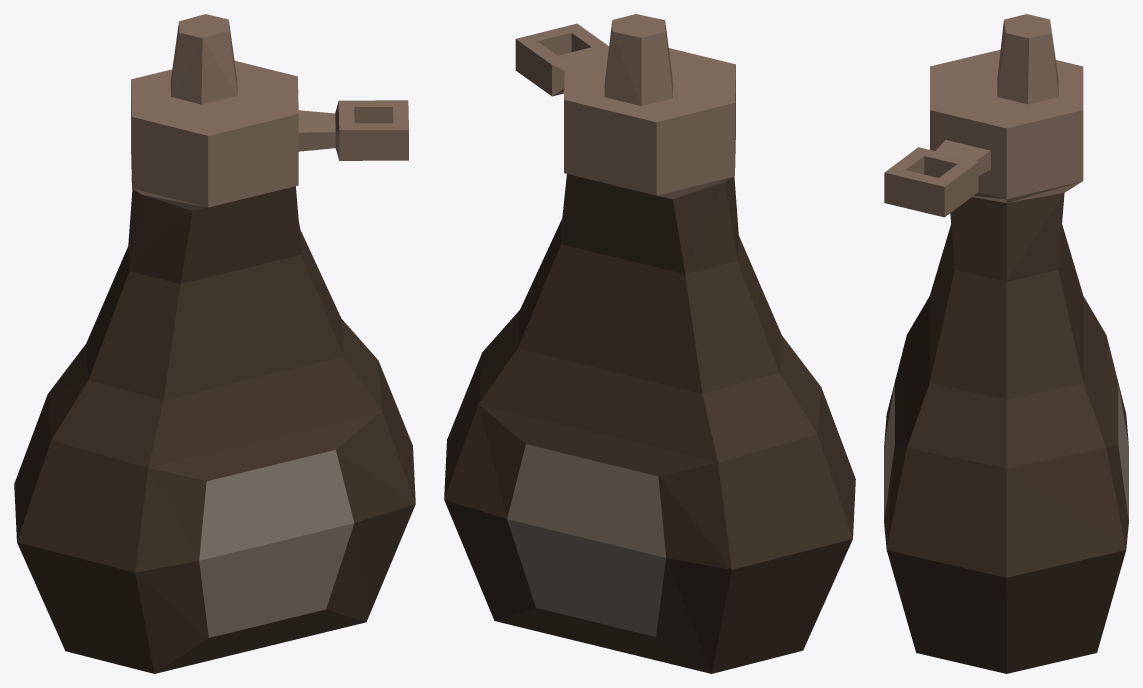
The model's file is SM_Item_Flask_01.glb.
3 renders of one model, left to right at view 1: azimuth 30°, elevation 25°; view 2: azimuth 150°, elevation 25°; view 3: azimuth 270°, elevation 25°, orthographic. The views are drawn at different scales.
Visible parts, largest first — view 1: SM_Item_Flask_01_00; view 2: SM_Item_Flask_01_00; view 3: SM_Item_Flask_01_00.
Part boxes in pixels (x1,y1,x2,y2): SM_Item_Flask_01_00: (14, 14, 415, 673); SM_Item_Flask_01_00: (444, 14, 855, 673); SM_Item_Flask_01_00: (884, 14, 1128, 673).
Bounding box in the file's own units: 0.169 × 0.2479 × 0.0914.
1 material, 1 textured.
